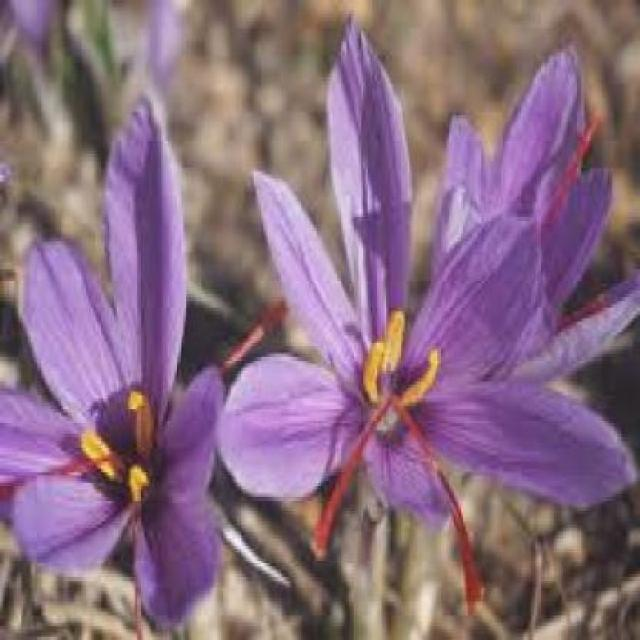saffron open: (218, 28, 634, 547), (0, 148, 226, 613), (434, 51, 640, 381)
